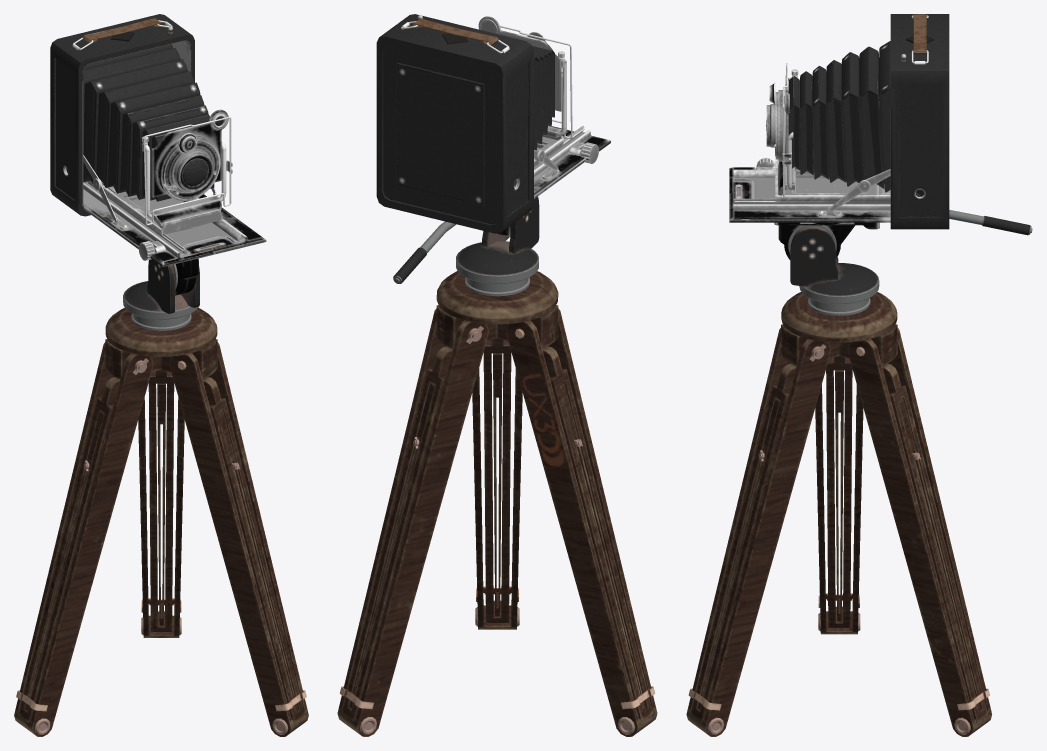
The model's file is AntiqueCamera.glb.
3 renders of one model, left to right at view 1: azimuth 30°, elevation 25°; view 2: azimuth 150°, elevation 25°; view 3: azimuth 270°, elevation 25°, orthographic. The views are drawn at different scales.
Parts seen in each view (by area): view 1: tripod, camera; view 2: tripod, camera; view 3: tripod, camera.
Part boxes in pixels (x1,y1,x2,y2): tripod: [14, 258, 308, 736]; camera: [50, 14, 266, 266]; tripod: [337, 196, 657, 736]; camera: [376, 14, 610, 233]; tripod: [686, 210, 1032, 736]; camera: [729, 14, 949, 229].
Bounding box in the file's own units: 2.6 × 7.21 × 3.39.
Materials: 2 (2 with a texture image).
